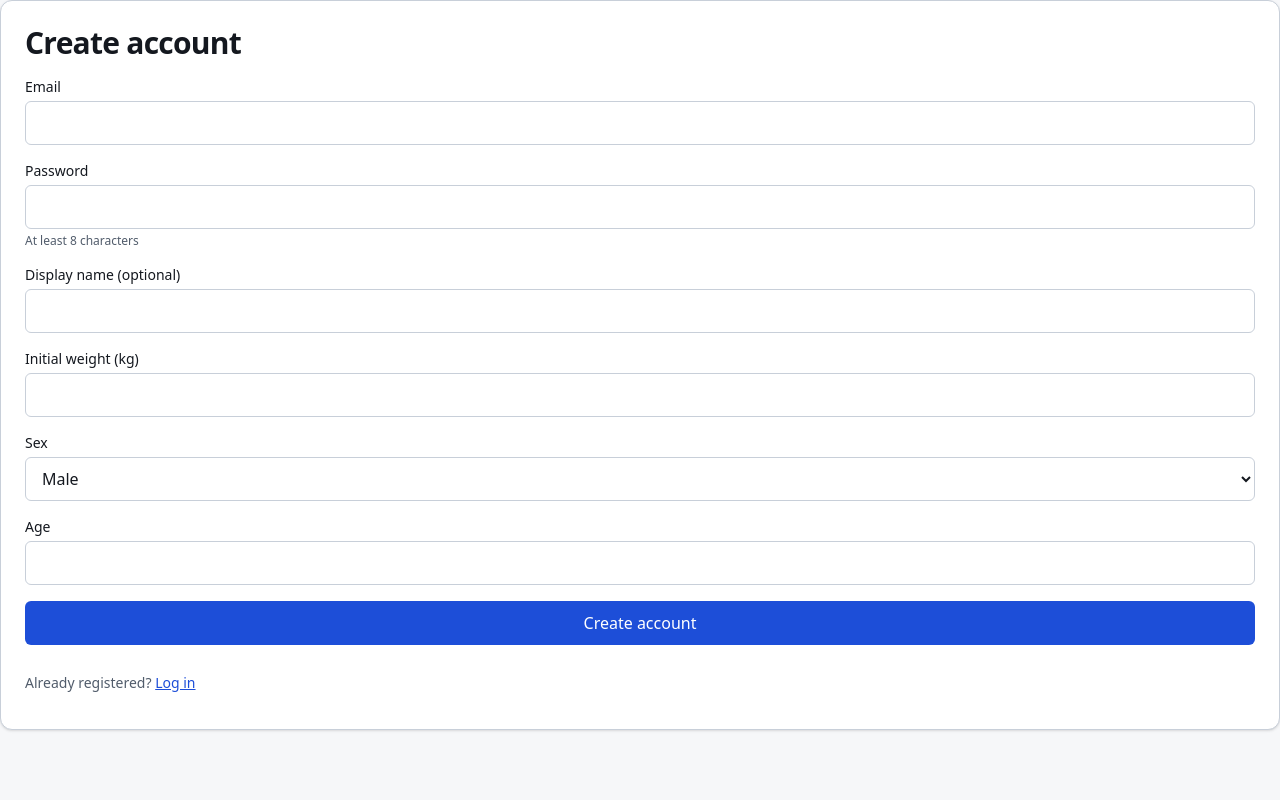
Test case: RegisterRoute › blocks clearly invalid input without a request
Type "nope" into the field labelled "Email" at (640, 123), box [25, 101, 1255, 145]
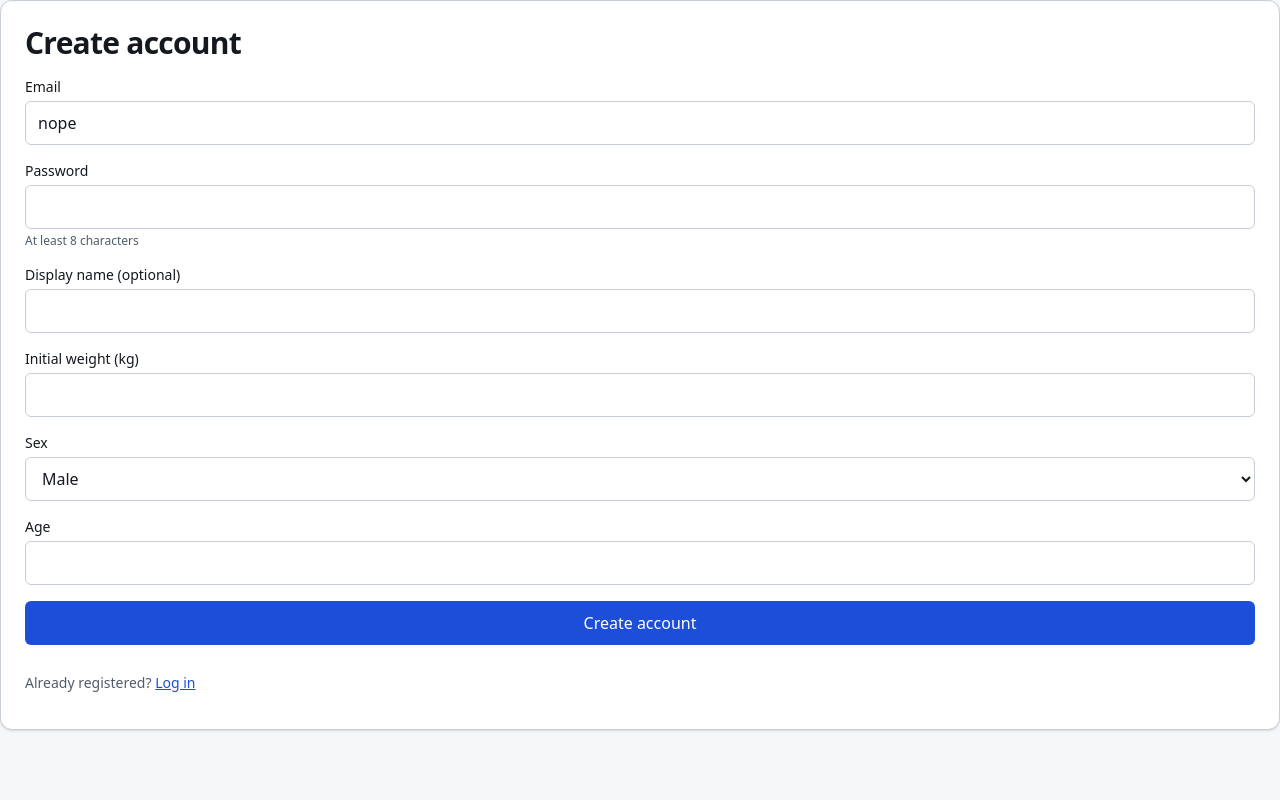
Type "short" into the password field labelled "Password" at (640, 207), box [25, 185, 1255, 229]
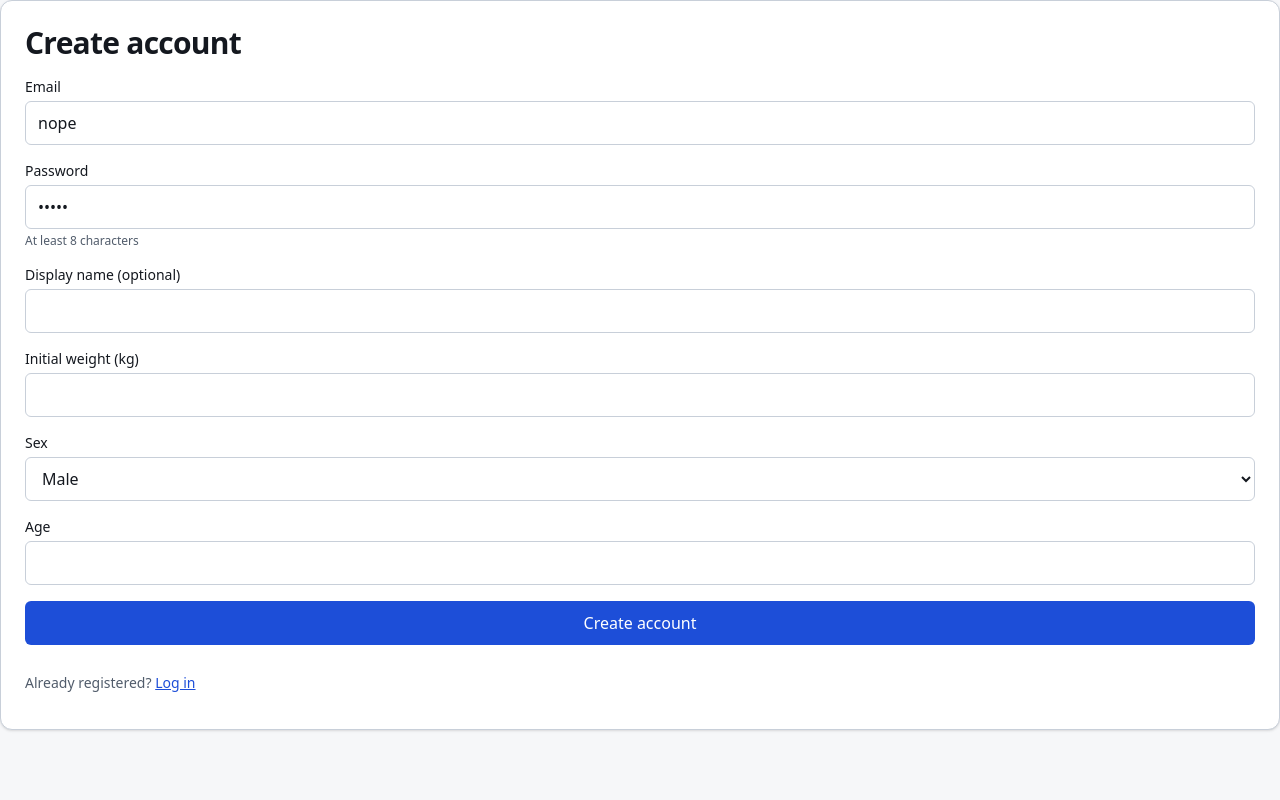
Submit the form
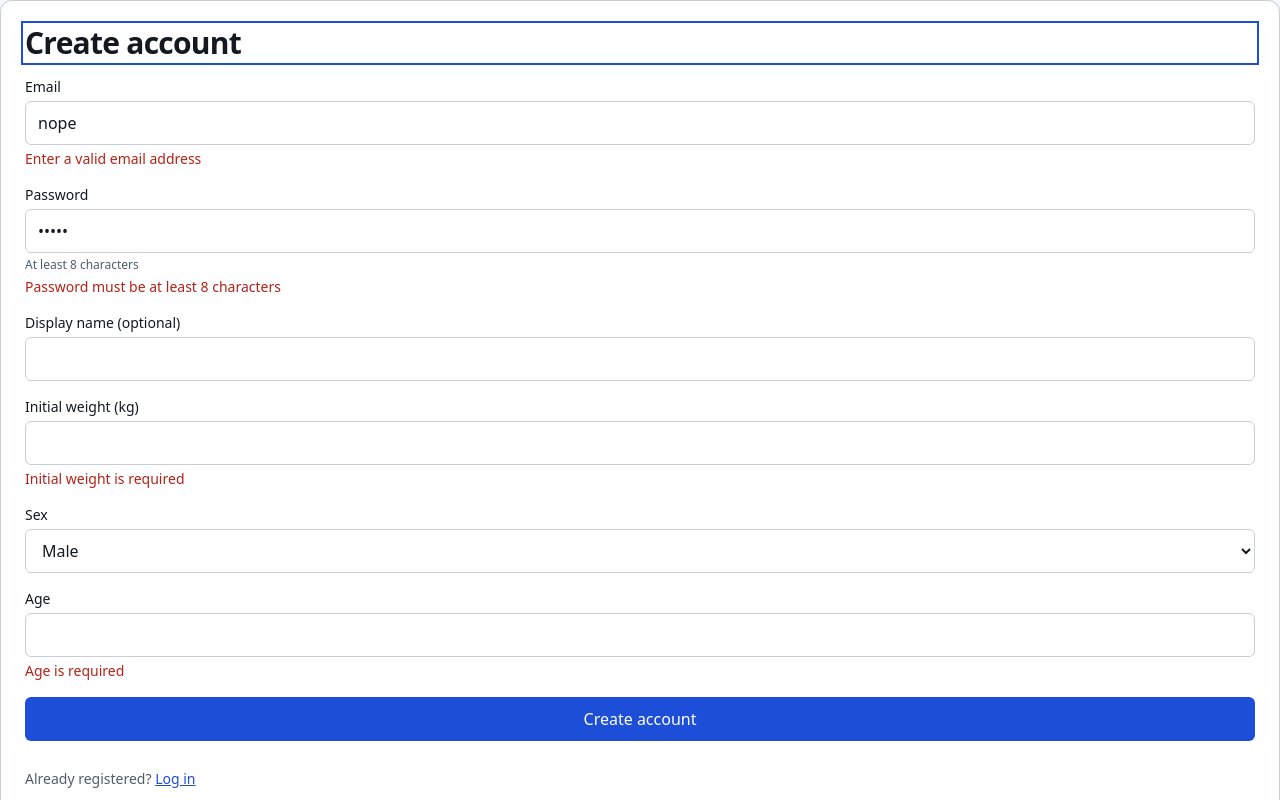
Expected: the text "Enter a valid email address" is shown, [25, 149, 201, 168]
Expected: the text "Password must be at least 8 characters" is shown, [25, 277, 281, 296]
Expected: the text "Initial weight is required" is shown, [25, 469, 184, 488]
